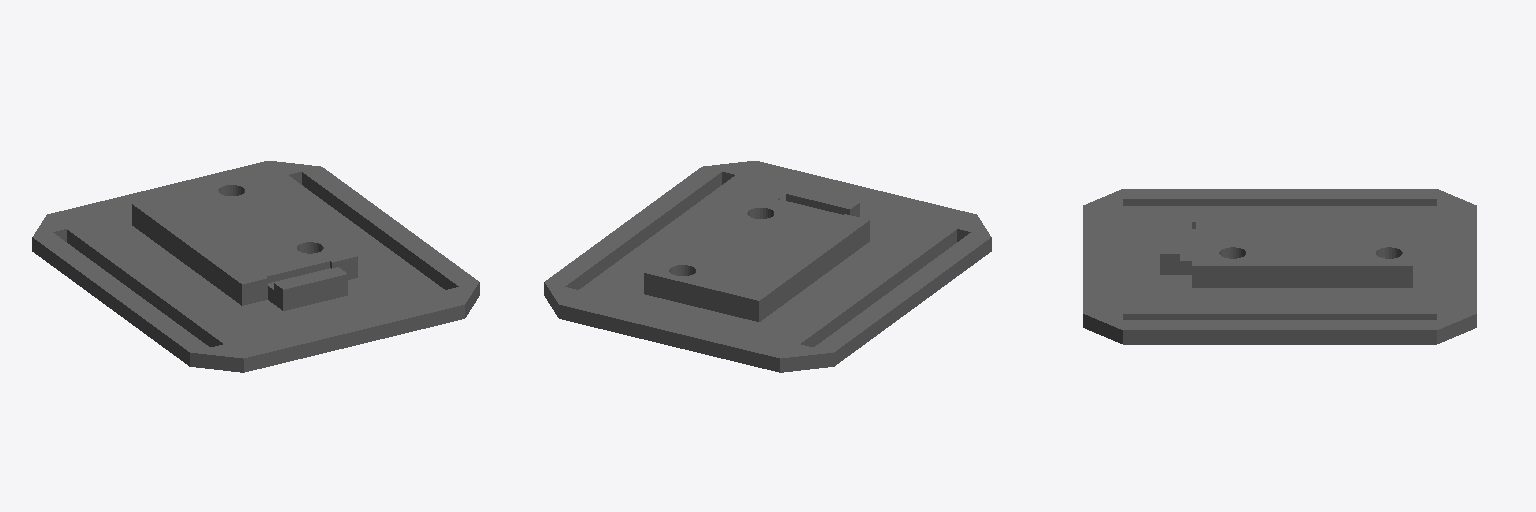
File: extension-bottom.obj
3 renders of one model, left to right at view 1: azimuth 30°, elevation 25°; view 2: azimuth 150°, elevation 25°; view 3: azimuth 270°, elevation 25°, orthographic.
Visible parts, largest first — view 1: Body1; view 2: Body1; view 3: Body1.
Boxes of the visible parts, <box> form: Body1: <box>32,161,479,372</box>; Body1: <box>544,161,991,372</box>; Body1: <box>1083,189,1476,344</box>.
Bounding box in the file's own units: 42.5 × 5 × 50.